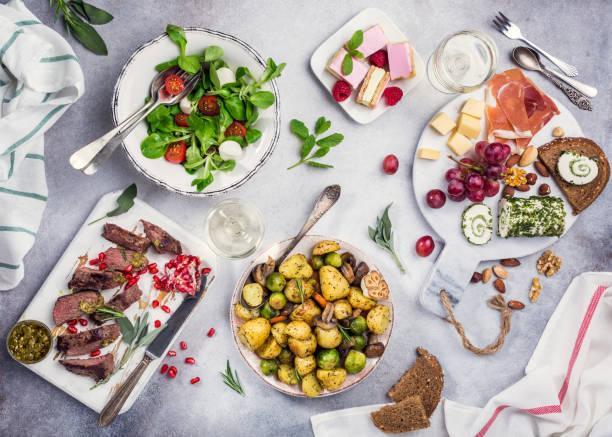Braised Crucian Carp: (9, 191, 214, 416), (412, 69, 607, 270), (110, 27, 276, 197), (224, 236, 399, 397), (307, 7, 425, 125)
